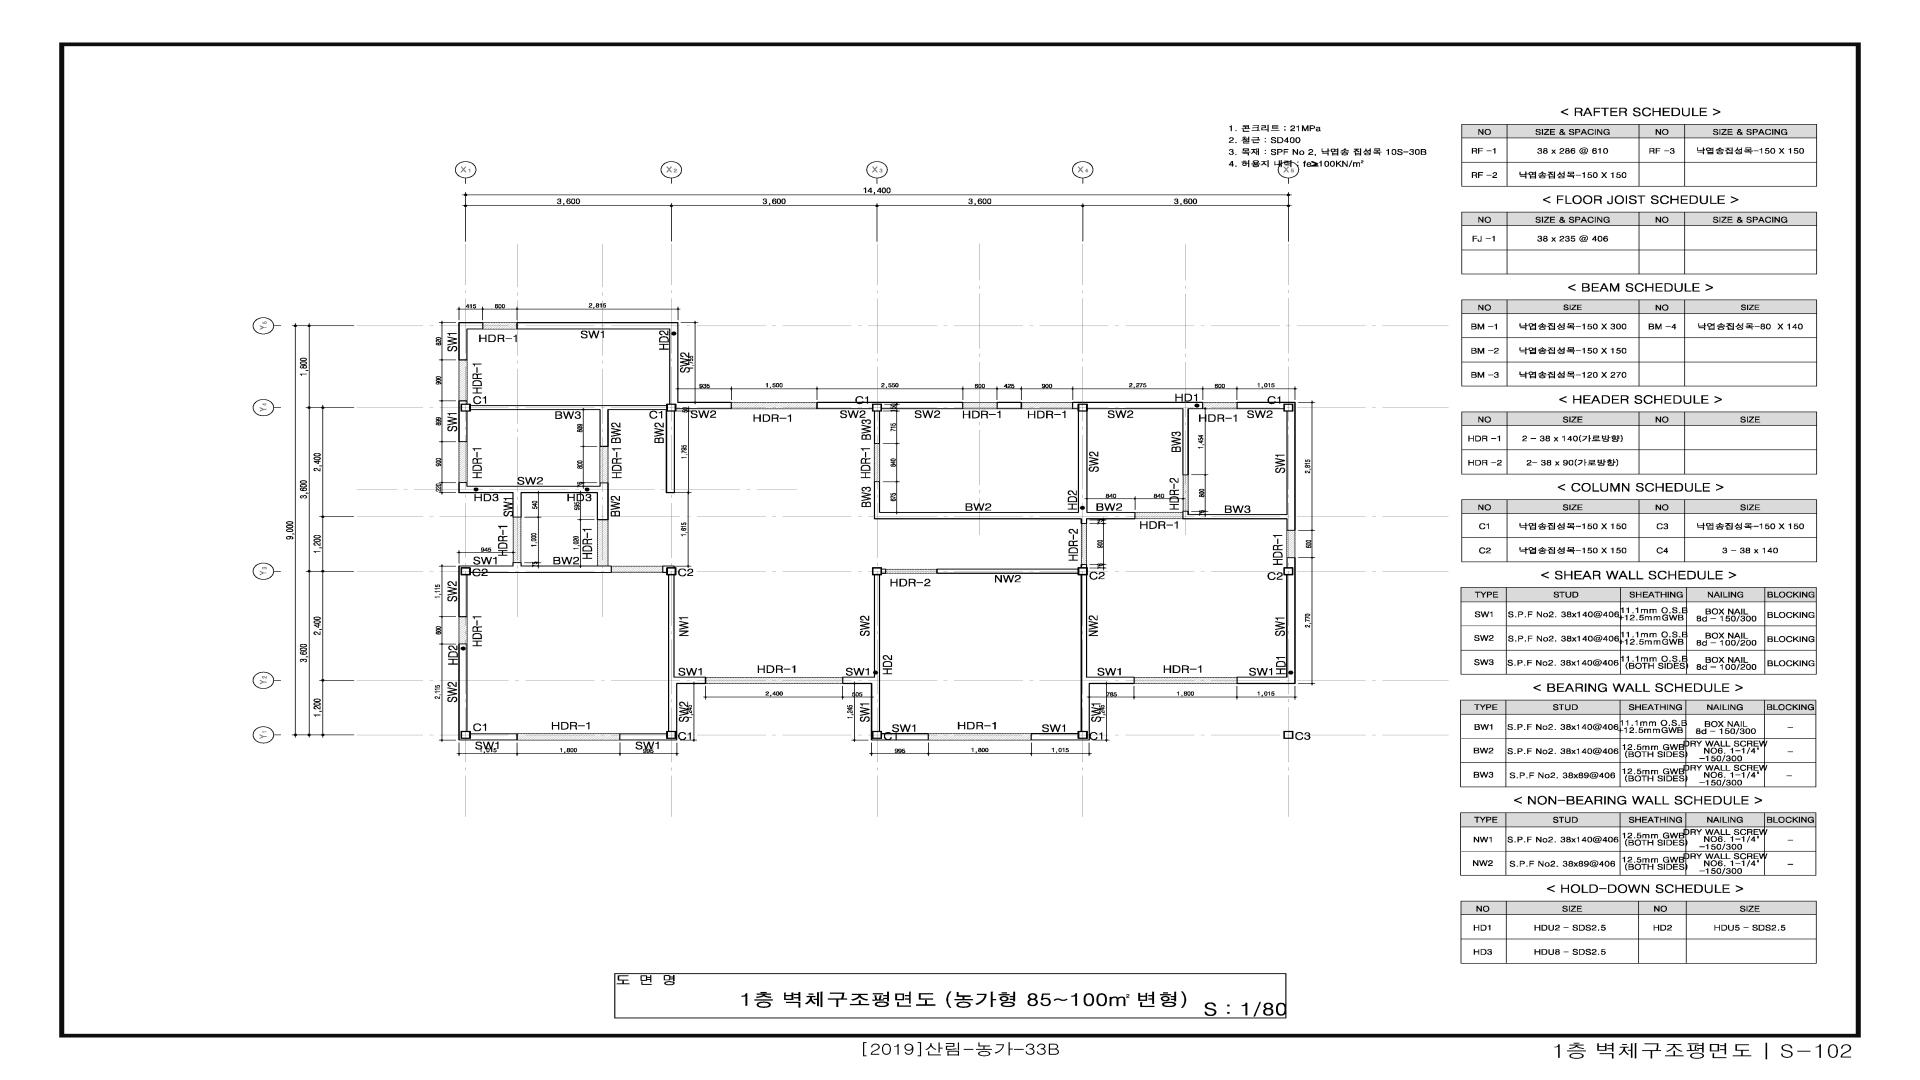door: (597, 520, 609, 565), (1135, 512, 1182, 520), (612, 566, 662, 573), (599, 447, 608, 483), (1182, 475, 1189, 511), (886, 569, 936, 574), (1081, 524, 1087, 564), (874, 444, 880, 481)
wall: (880, 512, 1135, 520), (516, 322, 678, 330), (1286, 412, 1296, 531), (1286, 575, 1296, 677), (1078, 412, 1088, 512), (471, 405, 666, 410), (458, 644, 468, 731), (1088, 402, 1203, 409), (669, 329, 679, 409), (666, 412, 675, 493), (522, 565, 612, 573), (668, 575, 675, 677), (1080, 576, 1087, 677), (936, 569, 1077, 574), (458, 482, 522, 493), (1080, 677, 1090, 741), (874, 575, 880, 677), (522, 486, 609, 493), (882, 402, 963, 409), (471, 562, 522, 573), (668, 677, 677, 731), (1189, 514, 1286, 519), (870, 684, 880, 731), (816, 402, 882, 409), (1182, 409, 1189, 475), (1236, 677, 1296, 684), (458, 400, 468, 442), (458, 575, 468, 617), (619, 733, 677, 740), (871, 733, 929, 740), (460, 733, 518, 740), (1031, 733, 1088, 740), (1236, 402, 1293, 409), (678, 402, 732, 409), (599, 410, 609, 447), (597, 493, 609, 520), (1090, 677, 1135, 684), (458, 329, 468, 360), (842, 677, 880, 684), (512, 493, 522, 517), (874, 481, 880, 520), (677, 677, 706, 684), (458, 322, 483, 330), (874, 412, 880, 444), (1286, 557, 1296, 576), (996, 402, 1022, 409), (458, 566, 471, 575), (1072, 402, 1088, 409), (662, 565, 674, 573), (1283, 567, 1293, 576), (460, 731, 471, 739), (666, 731, 677, 739), (871, 731, 882, 739), (1077, 731, 1088, 739), (1077, 567, 1088, 575), (1077, 404, 1088, 412), (666, 567, 677, 575), (666, 404, 677, 412), (460, 404, 471, 412), (872, 567, 882, 575), (1283, 404, 1293, 412), (872, 404, 882, 412), (461, 567, 471, 575), (1182, 511, 1189, 519), (1080, 519, 1087, 524), (1293, 402, 1296, 412), (599, 483, 609, 486), (1080, 564, 1087, 567), (882, 569, 886, 574), (458, 731, 460, 740)
window: (706, 677, 842, 684), (929, 733, 1031, 740), (1135, 677, 1236, 684), (518, 733, 619, 740), (732, 402, 816, 409), (512, 517, 522, 562), (458, 442, 468, 482), (458, 360, 467, 400), (1022, 402, 1072, 409), (458, 617, 468, 644), (483, 322, 516, 330), (1286, 531, 1296, 557), (963, 402, 997, 409), (1203, 402, 1236, 409)
